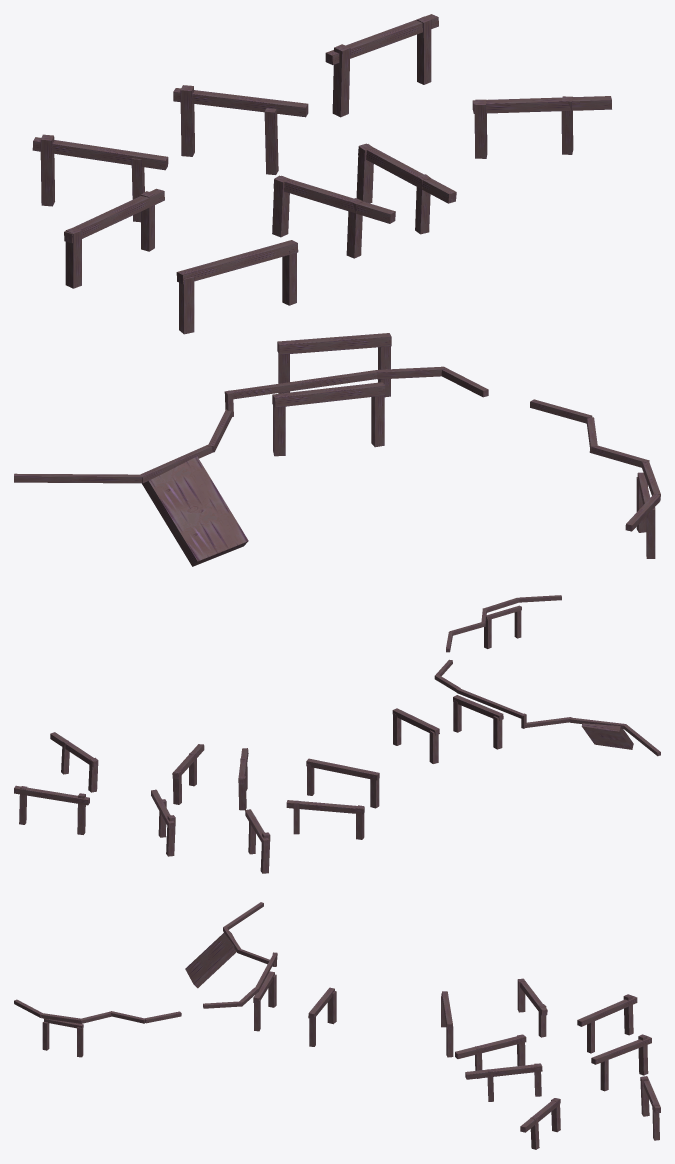
The model's file is slateminesBlockoutWood.fbx.
The picture shows the model from 3 angles, top to bottom: view 1: azimuth 30°, elevation 25°; view 2: azimuth 150°, elevation 25°; view 3: azimuth 270°, elevation 25°; orthographic projection. The views are drawn at different scales.
Visible parts, largest first — view 1: SMWood; view 2: SMWood; view 3: SMWood.
Boxes of the visible parts, x1=… form: SMWood: x1=14, y1=14, x2=660, y2=566; SMWood: x1=14, y1=595, x2=660, y2=873; SMWood: x1=14, y1=902, x2=660, y2=1149.
Size of the model in its own units: 22792 by 2421 by 27471.
